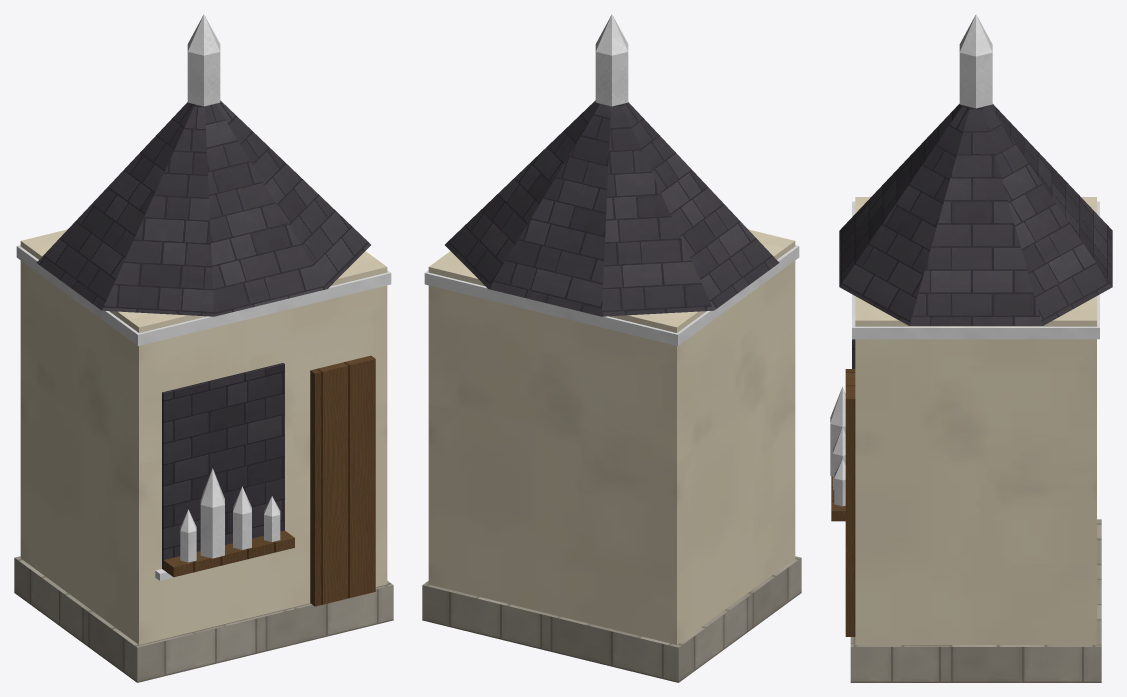
Rendered from protocol.kyber.glb.
The picture shows the model from 3 angles, left to right: view 1: azimuth 30°, elevation 25°; view 2: azimuth 150°, elevation 25°; view 3: azimuth 270°, elevation 25°; orthographic projection. The views are drawn at different scales.
Parts seen in each view (by area): view 1: building.protocol.kyber; view 2: building.protocol.kyber; view 3: building.protocol.kyber.
Boxes of the visible parts, x1,y1,x2,y2 form: building.protocol.kyber: [14, 14, 393, 682]; building.protocol.kyber: [422, 14, 801, 682]; building.protocol.kyber: [830, 14, 1112, 682].
Size of the model in its own units: 2 by 4.2 by 1.78.
Materials: 6 (6 with a texture image).
